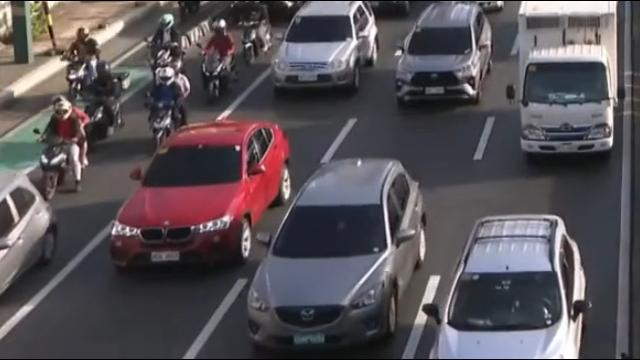car: (245, 157, 423, 353), (110, 118, 290, 277), (423, 215, 594, 360), (270, 0, 380, 97), (395, 2, 494, 107)
motorcycle: (32, 95, 90, 201), (142, 61, 189, 151), (84, 59, 129, 140), (146, 13, 187, 89), (199, 18, 234, 103), (61, 26, 102, 98), (240, 2, 274, 65)
truck: (516, 0, 620, 159)
